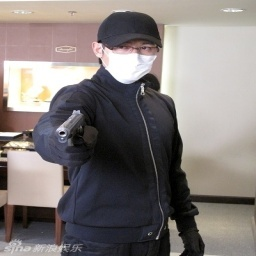correctlyWear: (92, 38, 161, 84)
